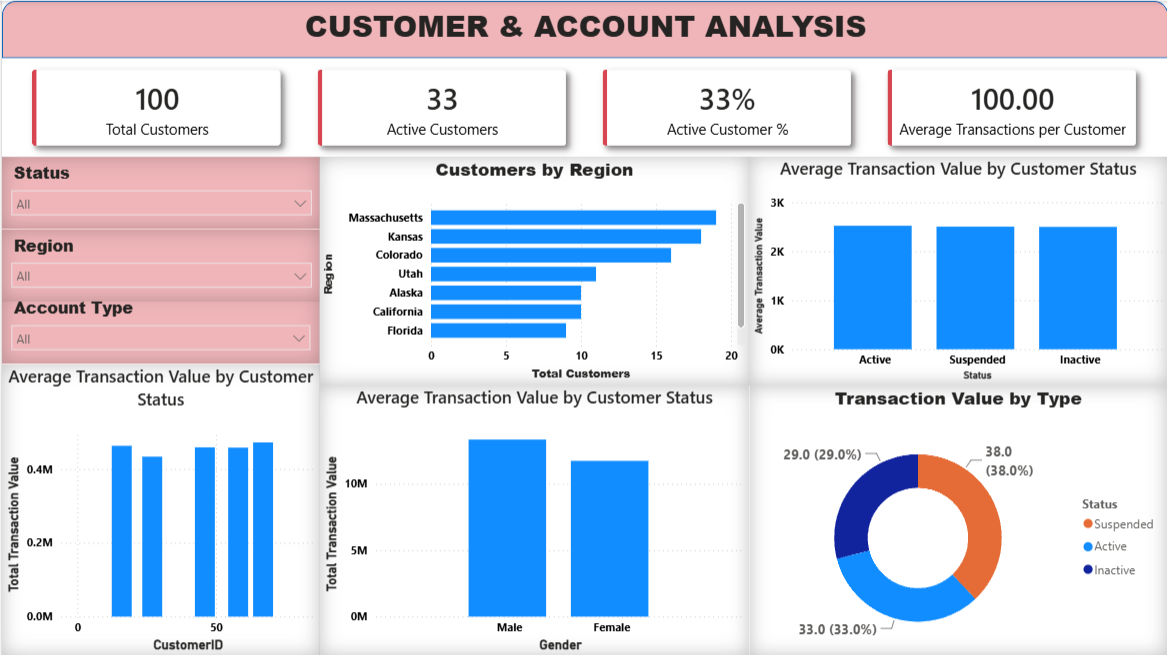

The page's visual inventory and layout, read from the dashboard file:
{"tool":"powerbi","page":{"name":"Customer & Account Analysis","canvas":[1280,720],"ordinal":1},"visuals":[{"type":"cardVisual","fields":{"Data":["account.Total Customers","account.Active Customers","account.Active Customer %","account.Average Transactions per Customer"]},"box":[0,42.5,1280,150],"z":0},{"type":"shape","box":[0,0,1280.3,63.1],"z":1000},{"type":"textbox","box":[71.4,0,1138.9,56.3],"z":2000},{"type":"donutChart","title":"Transaction Value by Type","fields":{"Category":["customer.Status"],"Y":["account.Total Customers"]},"box":[820.6,422.6,458.3,297.8],"z":2001},{"type":"slicer","fields":{"Values":["customer.Status"]},"box":[0,171.5,349.9,79.6],"z":2002},{"type":"slicer","fields":{"Values":["account.AccountType"]},"box":[0,319.7,348.5,79.6],"z":2005},{"type":"slicer","fields":{"Values":["customer.Region"]},"box":[0,251.1,349.9,79.6],"z":2006},{"type":"clusteredBarChart","title":"Customers by Region","fields":{"Category":["customer.Region"],"Y":["account.Total Customers"]},"box":[348.5,171.5,472,251.1],"z":2007},{"type":"clusteredColumnChart","title":"Average Transaction Value by Customer Status","fields":{"Category":["customer.Status"],"Y":["account.Average Transaction Value"]},"box":[820.6,171.5,458.3,251.1],"z":2008},{"type":"clusteredColumnChart","title":"Average Transaction Value by Customer Status","fields":{"Category":["customer.Gender"],"Y":["account.Total Transaction Value"]},"box":[348.5,422.6,472,297.8],"z":2010},{"type":"clusteredColumnChart","title":"Average Transaction Value by Customer Status","fields":{"Category":["account.CustomerID"],"Y":["account.Total Transaction Value"]},"box":[0,399.3,348.5,321.1],"z":2011}]}

Visuals, with their boxes in screenshot pixels (x1, y1, x2, y2), scaled from the page's 1280x720 canvas onto the 1167x655 screenshot:
cardVisual - account.Total Customers x account.Active Customers: (x1=0, y1=39, x2=1166, y2=175)
shape: (x1=0, y1=0, x2=1166, y2=57)
textbox: (x1=65, y1=0, x2=1103, y2=51)
"Transaction Value by Type" donutChart: (x1=748, y1=384, x2=1166, y2=654)
slicer - customer.Status: (x1=0, y1=156, x2=319, y2=228)
slicer - account.AccountType: (x1=0, y1=291, x2=318, y2=363)
slicer - customer.Region: (x1=0, y1=228, x2=319, y2=301)
"Customers by Region" clusteredBarChart: (x1=318, y1=156, x2=748, y2=384)
"Average Transaction Value by Customer Status" clusteredColumnChart: (x1=748, y1=156, x2=1166, y2=384)
"Average Transaction Value by Customer Status" clusteredColumnChart: (x1=318, y1=384, x2=748, y2=654)
"Average Transaction Value by Customer Status" clusteredColumnChart: (x1=0, y1=363, x2=318, y2=654)
